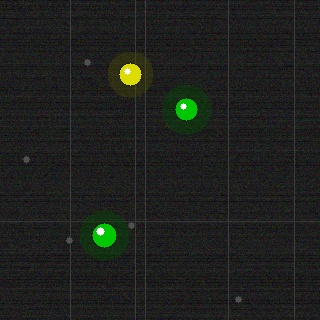green_normal: (90, 221, 118, 249), (173, 96, 199, 122)
yellow_warning: (117, 61, 143, 87)
